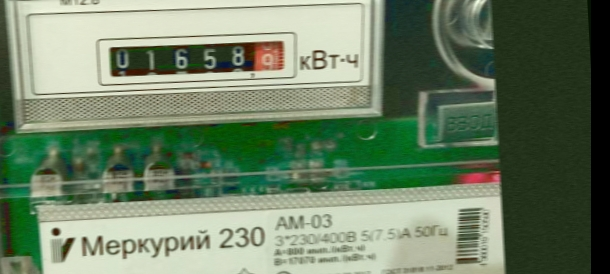0: (115, 47, 129, 69)
1: (145, 48, 156, 71)
5: (202, 46, 217, 70)
6: (173, 46, 188, 69)
8: (230, 43, 245, 66)
9: (258, 51, 274, 73)
screen: (90, 22, 305, 93)
